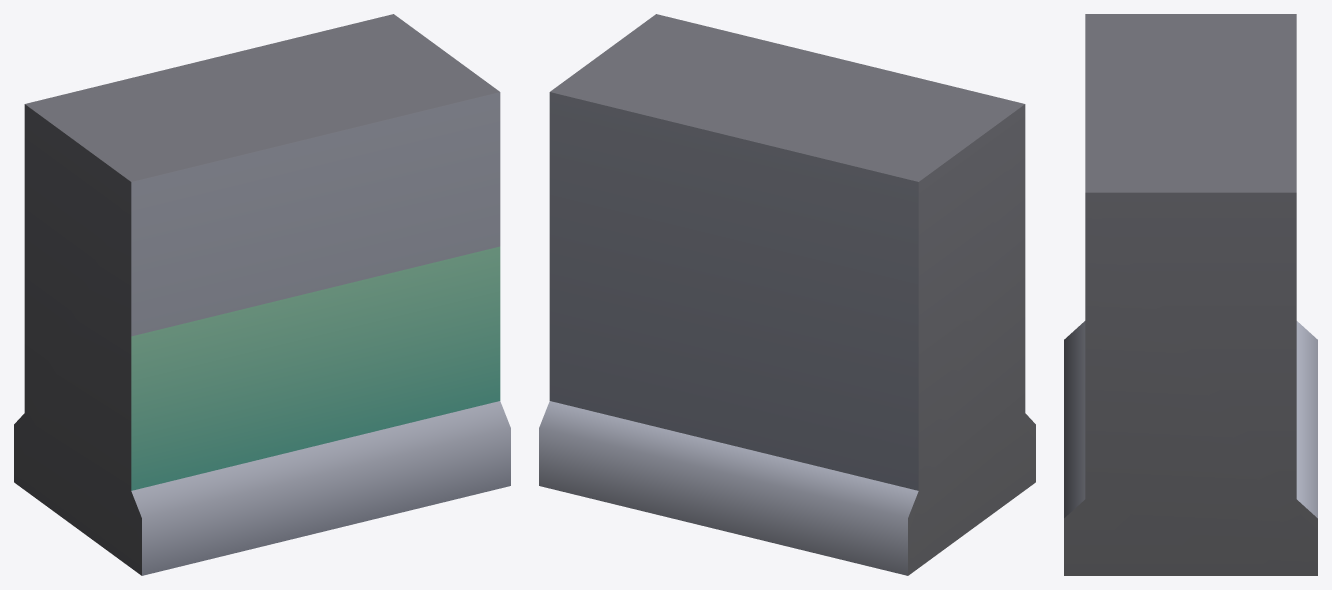
Rendered from wall.glb.
The picture shows the model from 3 angles, left to right: view 1: azimuth 30°, elevation 25°; view 2: azimuth 150°, elevation 25°; view 3: azimuth 270°, elevation 25°; orthographic projection.
Parts seen in each view (by area): view 1: wall; view 2: wall; view 3: wall.
Boxes of the visible parts, left/top/right/bottom form: wall: left=14, top=14, right=510, bottom=575; wall: left=539, top=14, right=1035, bottom=575; wall: left=1064, top=14, right=1317, bottom=575.
Size of the model in its own units: 1 by 1 by 0.6.
